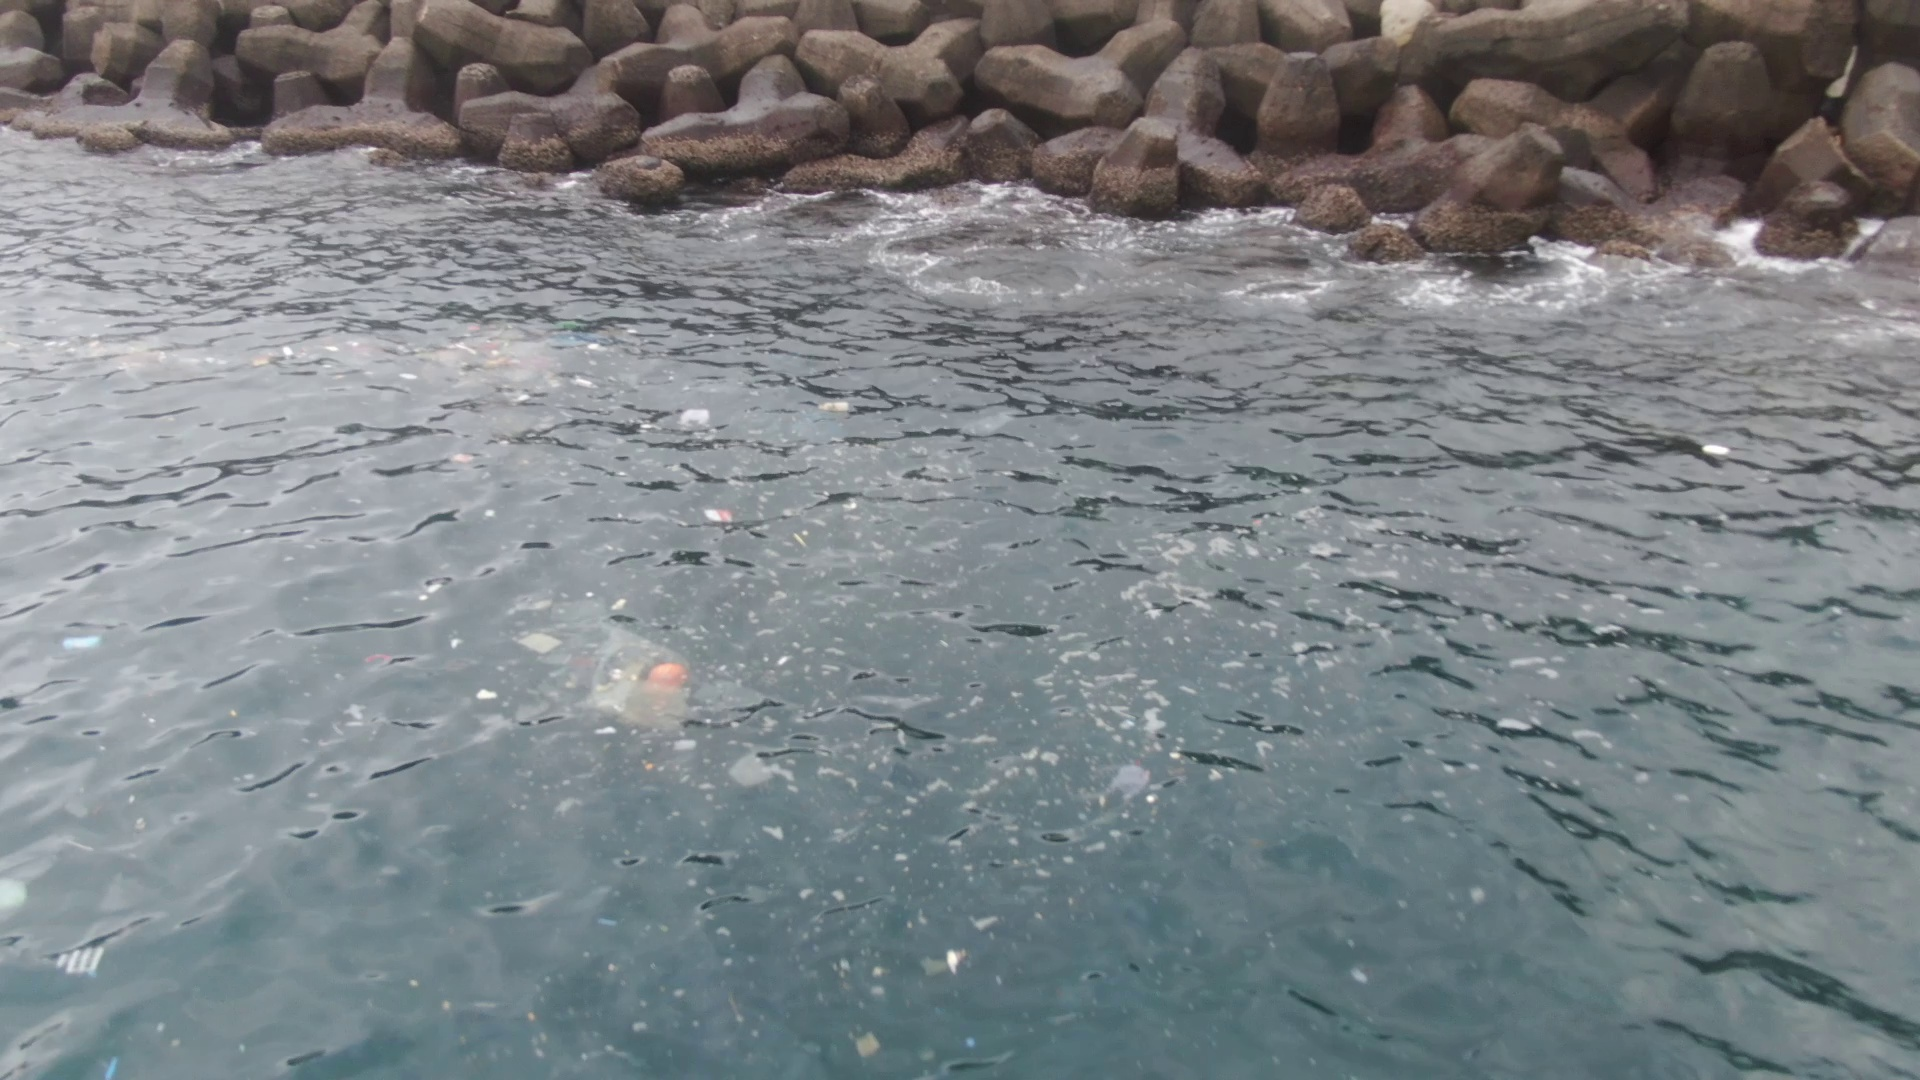garbage: (434, 327, 568, 392), (621, 642, 698, 717), (251, 340, 415, 365), (94, 342, 225, 371), (655, 401, 737, 438), (16, 328, 75, 357)
